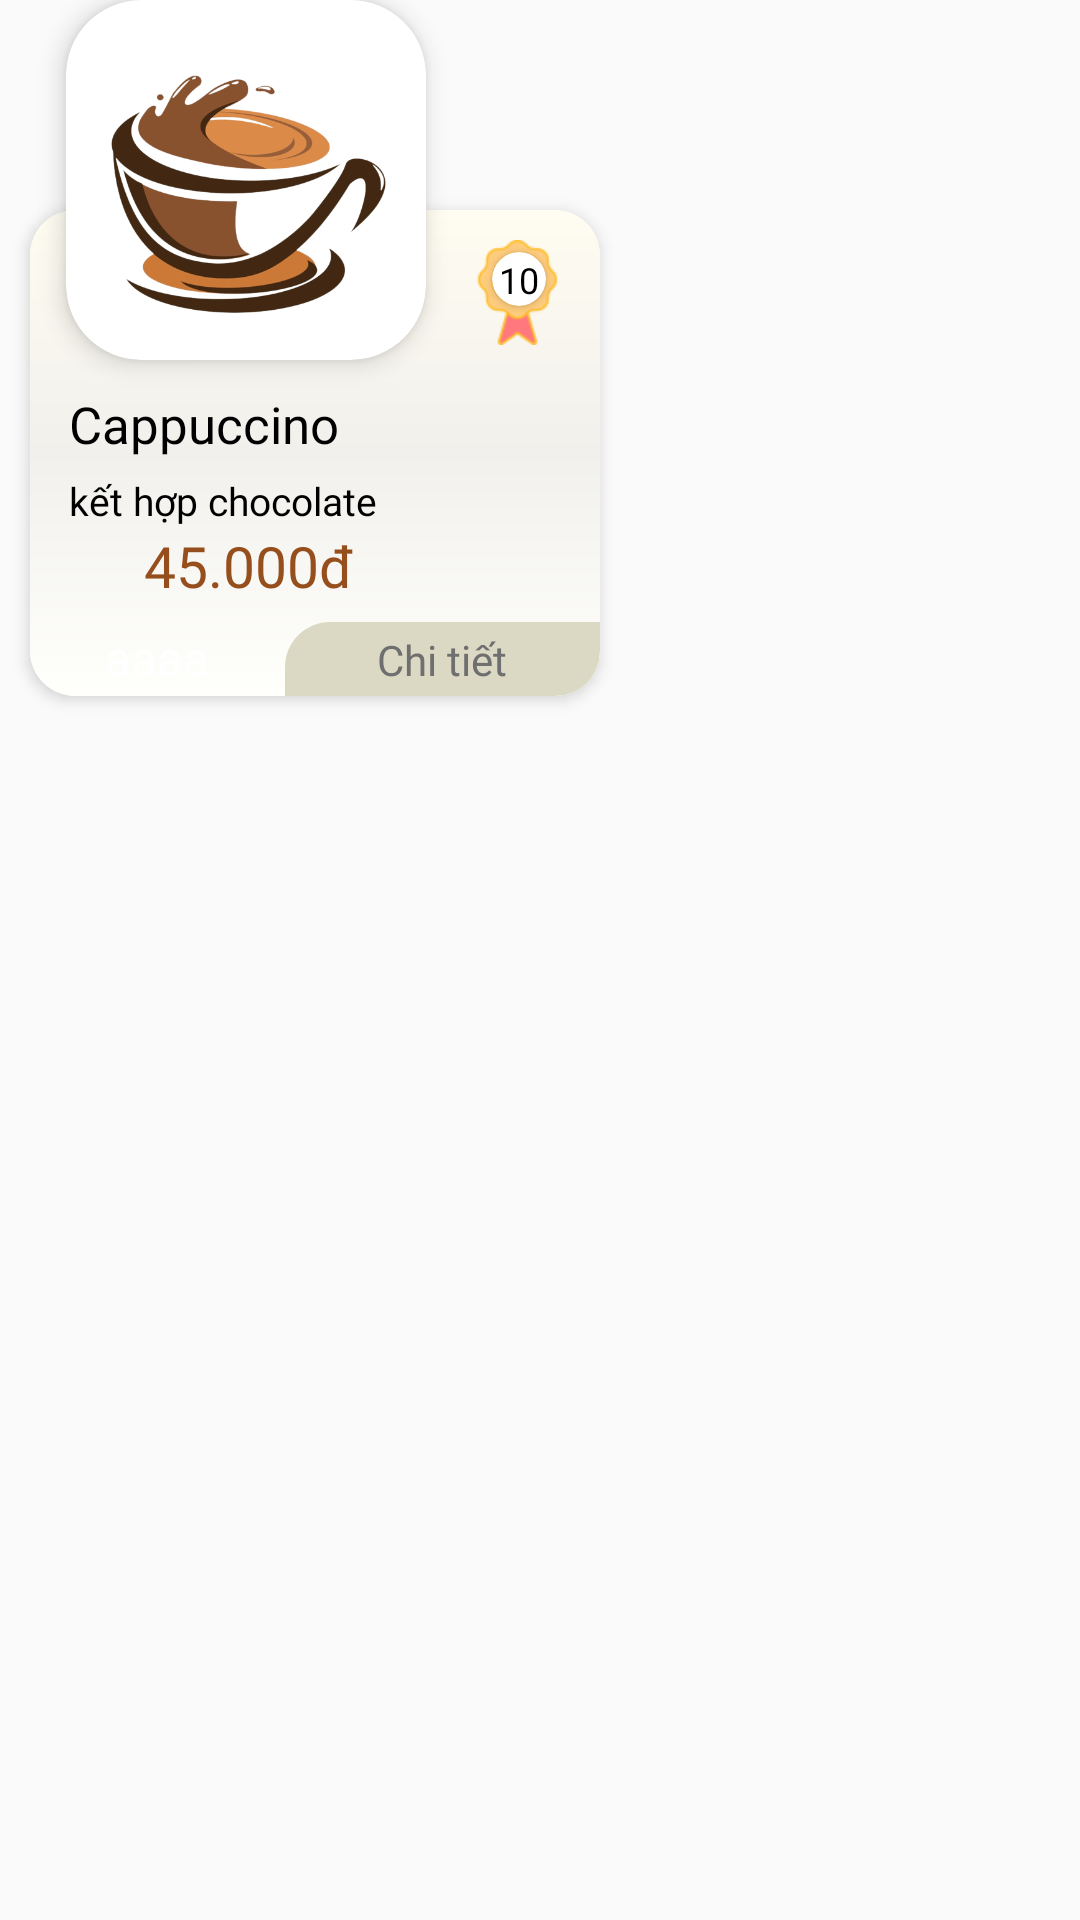

Icon bounding boxes for this 1080×1920 phone screenshot, format rect(x1, y1, x2, y2):
product: rect(111, 75, 386, 313)
top rate: rect(477, 240, 558, 345)
